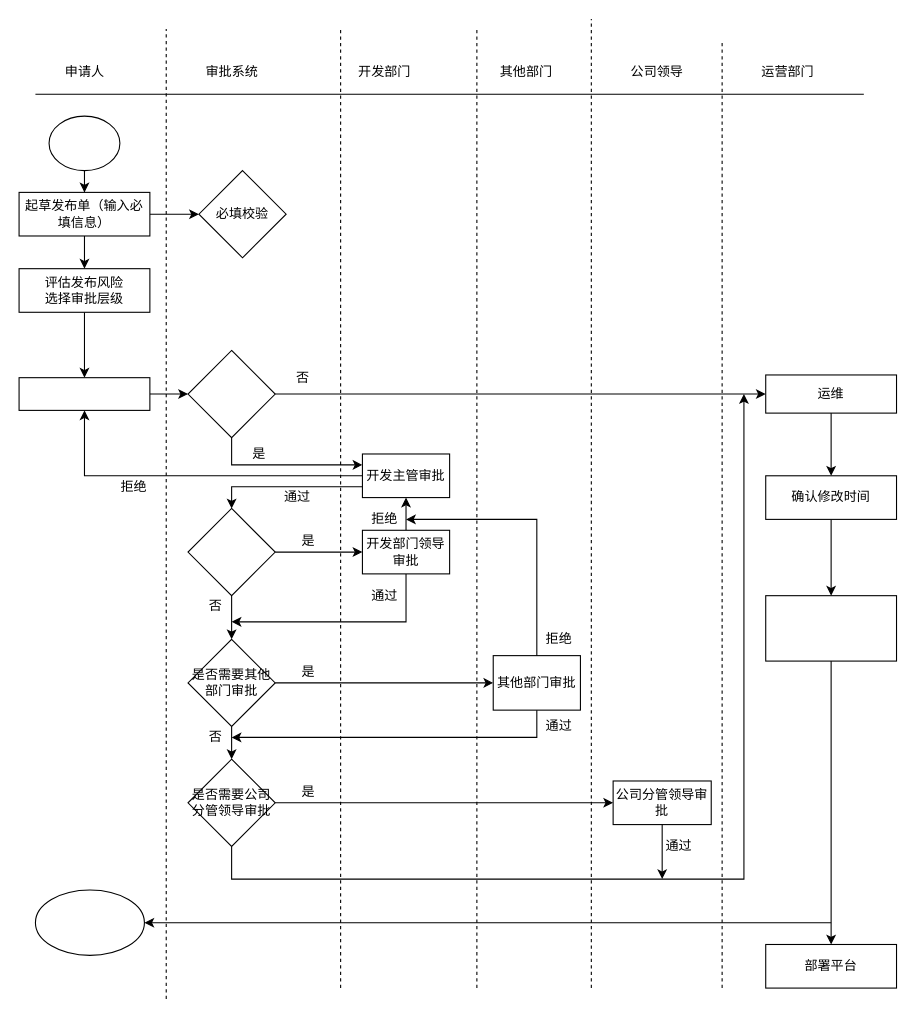
This 916x1019 diagram has some shape labels left out. Here are the shapes that lost their labels. From the top down, the centre of each, then its label:
the point at 84,143: 开始
the point at 84,393: 提交
the point at 231,393: 是否需要审批
the point at 231,551: 是否需要开发部门领导审批
the point at 831,628: 生成发布工单
the point at 89,922: 结束
